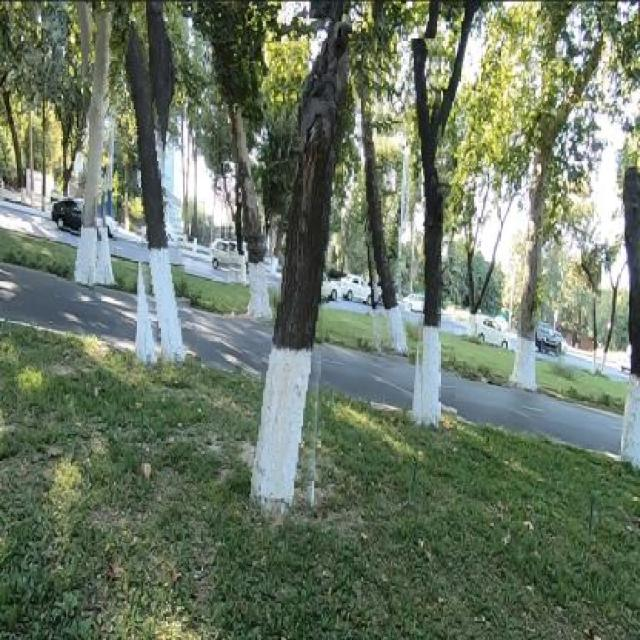tree trunk: (260, 18, 342, 516), (112, 12, 188, 380), (408, 39, 452, 442), (210, 26, 268, 328), (64, 12, 122, 300), (354, 32, 400, 368)
